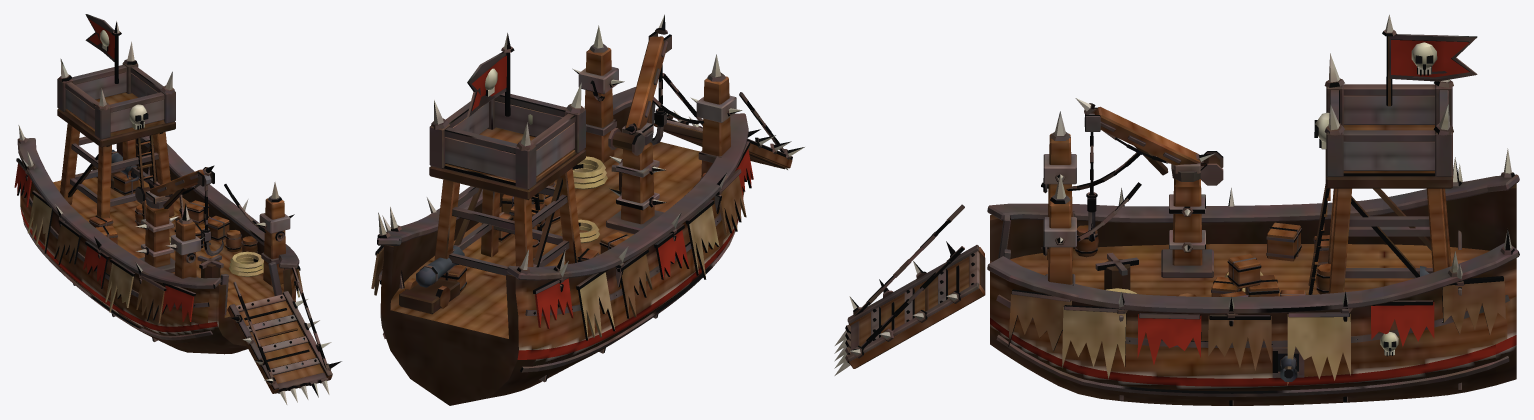
The model's file is orc_barge.glb.
3 views of the same model, side by side, from view 1: azimuth 30°, elevation 25°; view 2: azimuth 150°, elevation 25°; view 3: azimuth 270°, elevation 25° (orthographic). The views are drawn at different scales.
Parts seen in each view (by area): view 1: Hull, Ramp, Crane, Flag, Hook; view 2: Hull, Crane, Ramp, Flag, Hook; view 3: Hull, Ramp, Crane, Flag, Hook.
Part boxes in pixels (left/top/right/bottom): Hull: left=14, top=41, right=303, bottom=354; Ramp: left=227, top=267, right=341, bottom=404; Crane: left=135, top=165, right=214, bottom=208; Flag: left=85, top=14, right=121, bottom=83; Hook: left=201, top=185, right=223, bottom=256; Hull: left=371, top=25, right=753, bottom=405; Crane: left=608, top=14, right=671, bottom=155; Ramp: left=654, top=73, right=804, bottom=169; Flag: left=467, top=33, right=514, bottom=116; Hook: left=651, top=64, right=666, bottom=145; Hull: left=987, top=53, right=1519, bottom=405; Ramp: left=834, top=204, right=985, bottom=375; Crane: left=1075, top=98, right=1223, bottom=185; Flag: left=1382, top=14, right=1477, bottom=106; Hook: left=1086, top=132, right=1097, bottom=241.
Bounding box in the file's own units: 3.22 × 4.76 × 7.81.
Materials: 2 (2 with a texture image).
